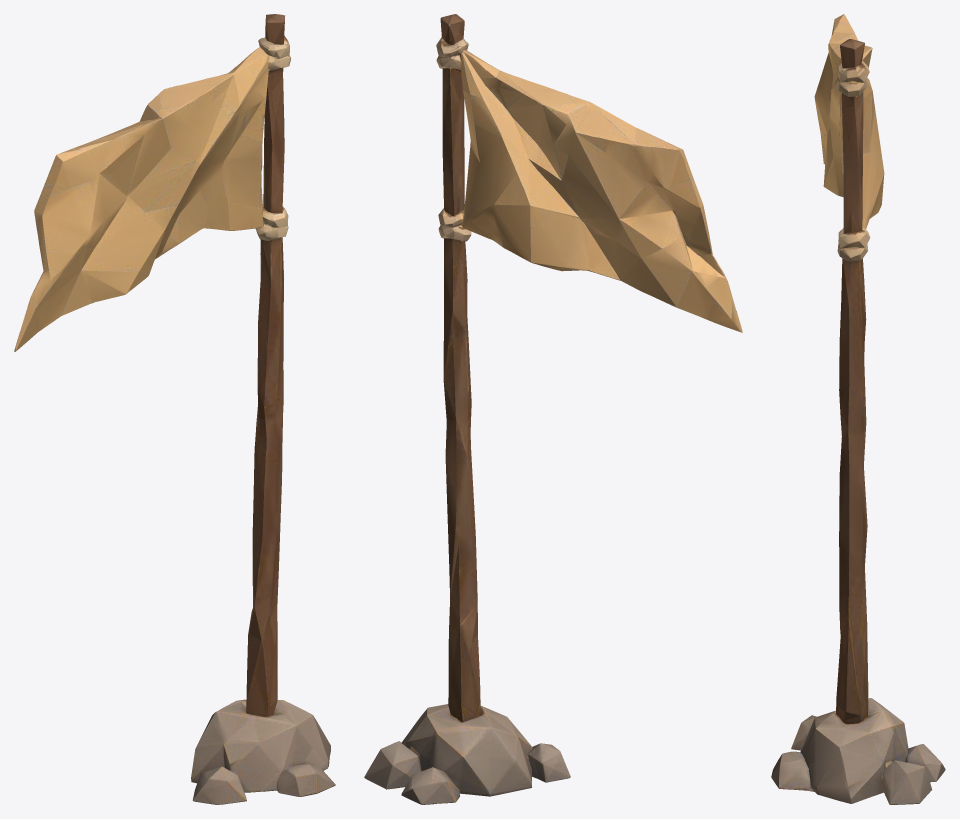
File: camp-tribe-banner.glb
3 renders of one model, left to right at view 1: azimuth 30°, elevation 25°; view 2: azimuth 150°, elevation 25°; view 3: azimuth 270°, elevation 25°, orthographic.
Bounding box in the file's own units: 0.8817 × 1.9 × 0.4075.
Materials: 1 (1 with a texture image).
